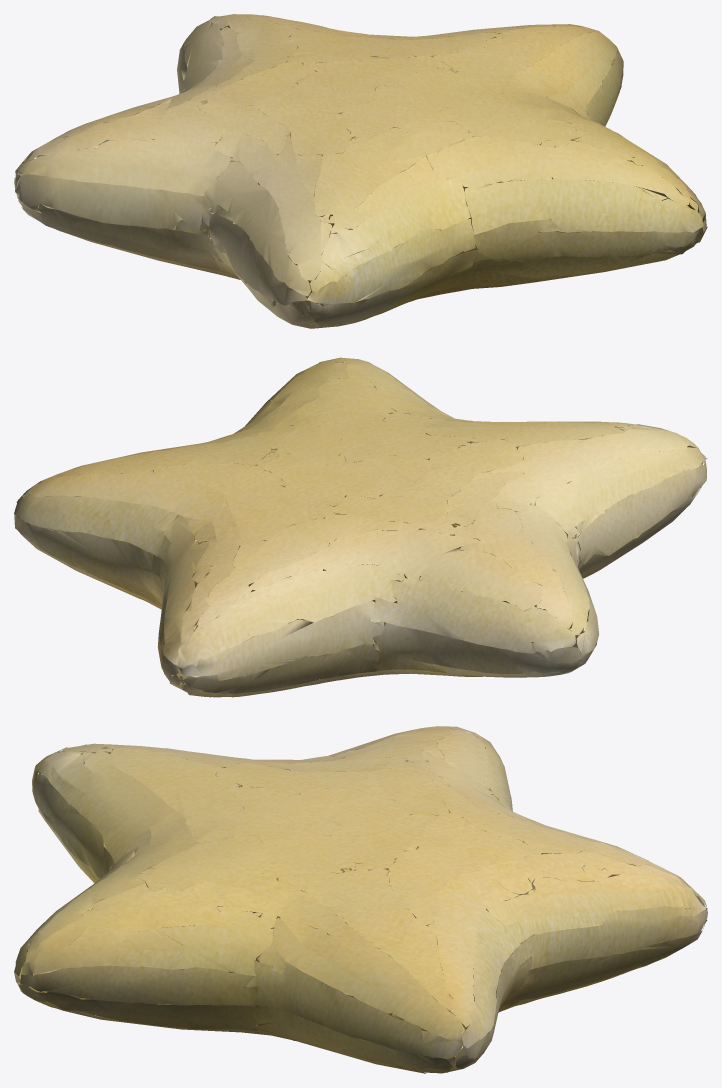
File: Pastel Heart Star.glb
The picture shows the model from 3 angles, top to bottom: view 1: azimuth 30°, elevation 25°; view 2: azimuth 150°, elevation 25°; view 3: azimuth 270°, elevation 25°; orthographic projection. The views are drawn at different scales.
Parts seen in each view (by area): view 1: texture_mapping; view 2: texture_mapping; view 3: texture_mapping.
Part boxes in pixels (x1,y1,x2,y2): texture_mapping: (14, 14, 707, 328); texture_mapping: (14, 357, 707, 697); texture_mapping: (14, 726, 707, 1073).
Size of the model in its own units: 1 by 0.2564 by 0.9901.
1 material, 1 textured.
